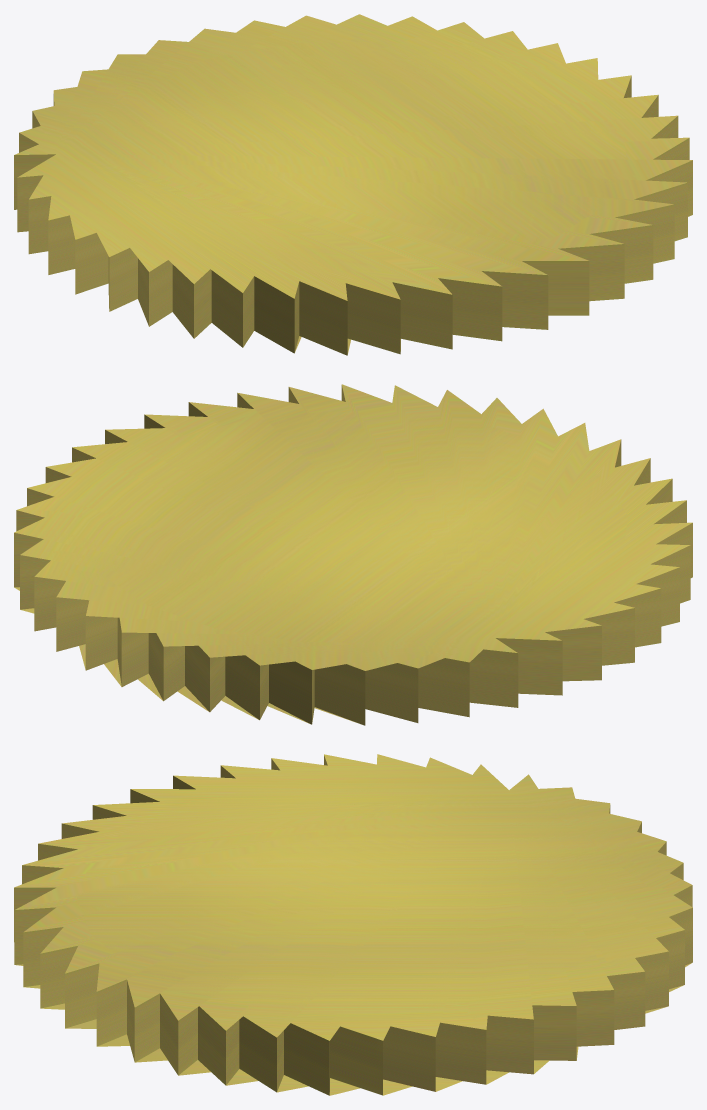
Rendered from ClockAngleFacet3Spoke040.fbx.
3 renders of one model, top to bottom at view 1: azimuth 30°, elevation 25°; view 2: azimuth 150°, elevation 25°; view 3: azimuth 270°, elevation 25°, orthographic.
Parts seen in each view (by area): view 1: ClockAngleFacet3Spoke040; view 2: ClockAngleFacet3Spoke040; view 3: ClockAngleFacet3Spoke040.
Part boxes in pixels (x1=…): ClockAngleFacet3Spoke040: x1=14, y1=14, x2=692, y2=355; ClockAngleFacet3Spoke040: x1=14, y1=384, x2=692, y2=725; ClockAngleFacet3Spoke040: x1=14, y1=754, x2=692, y2=1095.
Size of the model in its own units: 221 by 19.69 by 221.
